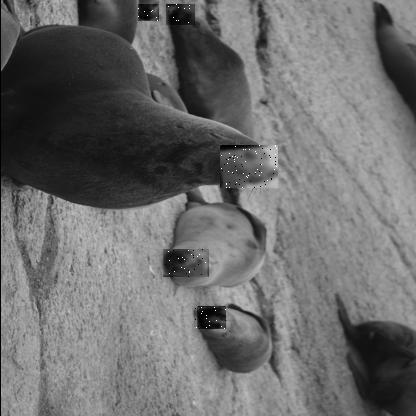face: (218, 145, 277, 189), (161, 249, 208, 278), (193, 306, 224, 330), (164, 4, 194, 26), (136, 4, 158, 22)
